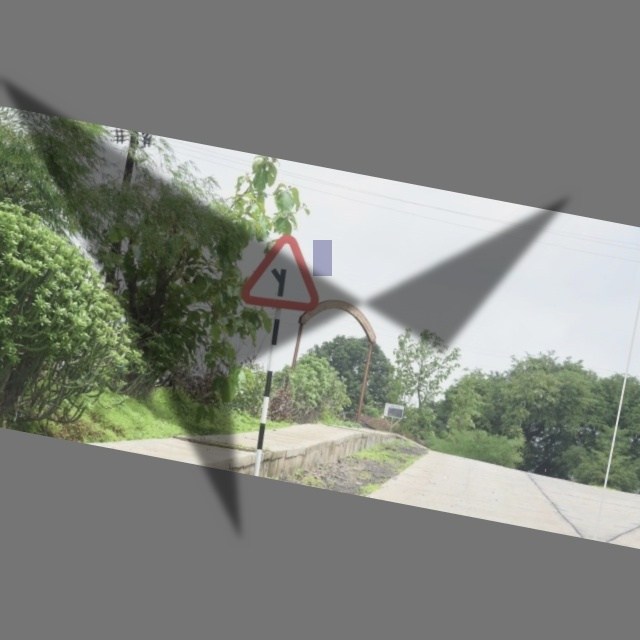Y_Intersection: (239, 217, 331, 319)
